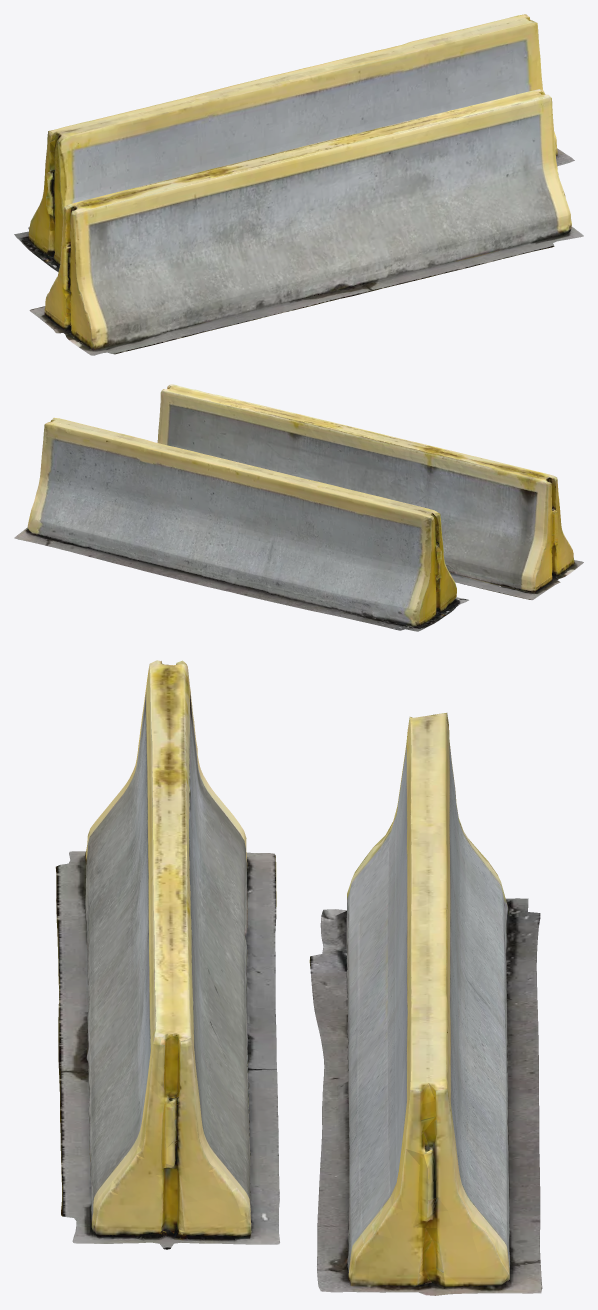
The model's file is street_barrier_scan.glb.
3 views of the same model, one above another, from view 1: azimuth 30°, elevation 25°; view 2: azimuth 150°, elevation 25°; view 3: azimuth 270°, elevation 25° (orthographic). The views are drawn at different scales.
Visible parts, largest first — view 1: 2_2_0, 1_1_0; view 2: 1_1_0, 2_2_0; view 3: 1_1_0, 2_2_0.
Boxes of the visible parts, x1,y1,x2,y2 form: 2_2_0: (29,89,583,355); 1_1_0: (14,14,574,271); 1_1_0: (14,417,468,631); 2_2_0: (157,384,583,599); 1_1_0: (309,713,542,1295); 2_2_0: (55,660,279,1249).
Bounding box in the file's own units: 4.08 × 0.8975 × 1.87.
2 materials, 2 textured.
